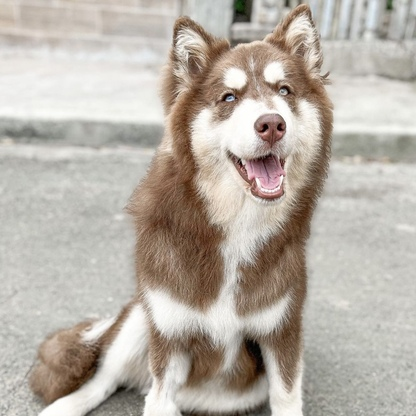husky: (23, 1, 337, 416)
